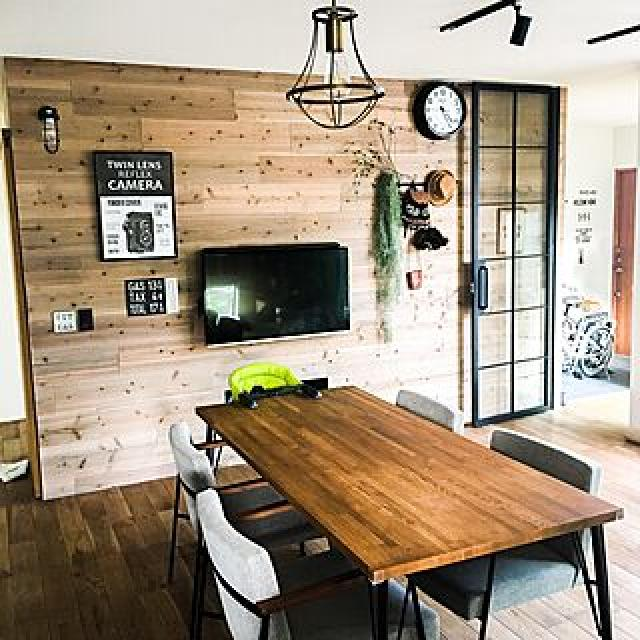vintage chair: (189, 493, 363, 640)
vintage desk: (191, 382, 622, 640)
